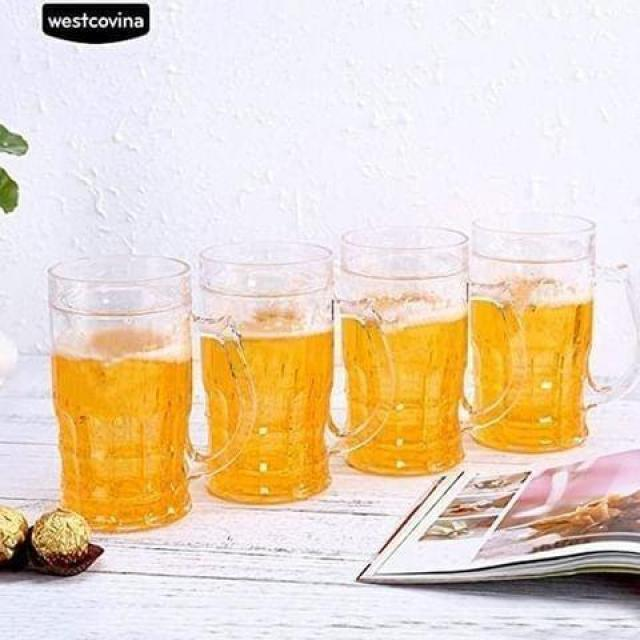glass-mug: (44, 249, 260, 536), (200, 234, 399, 506), (339, 220, 533, 480), (466, 206, 640, 456)
